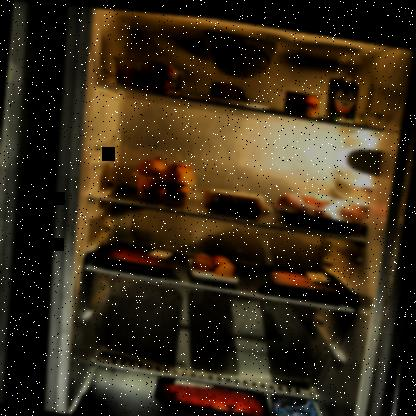beef: (90, 235, 186, 279)
cheese: (207, 77, 254, 104)
chicken: (273, 176, 373, 231), (259, 254, 361, 301)
chocolate: (267, 387, 330, 415)
corn: (283, 83, 322, 114)
eggs: (189, 247, 243, 280)
ground_beef: (153, 370, 277, 415)
heavy_cream: (323, 69, 362, 119)
onion: (132, 149, 195, 203)
strawberries: (112, 53, 185, 94)
